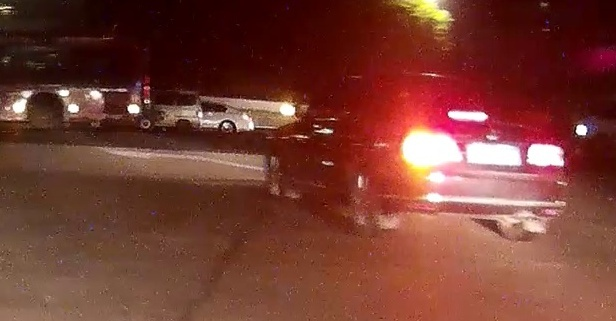L_light: (400, 130, 461, 168)
R_light: (525, 144, 564, 166)
T_light: (447, 110, 488, 121)
night-left: (399, 73, 568, 240)
